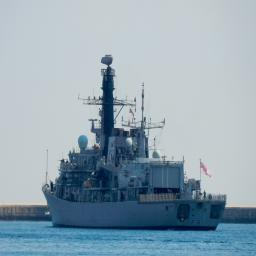Fragata: (42, 53, 229, 231)
